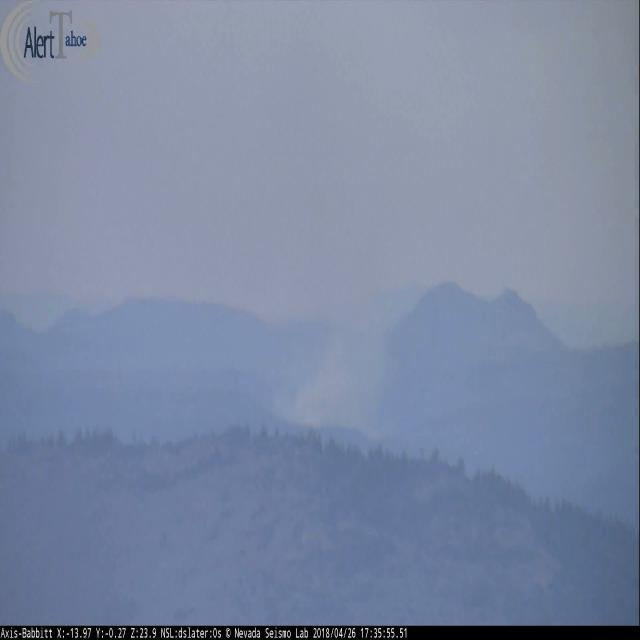smoke: (280, 322, 388, 442)
